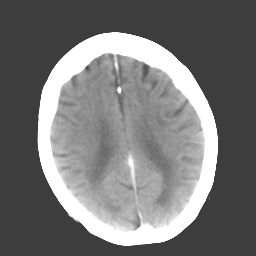ischemic: (52, 107, 97, 151)
